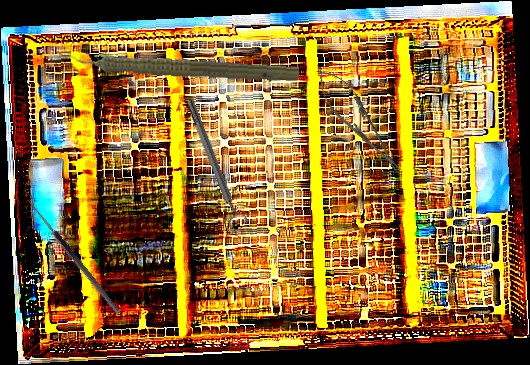Fixation Ring: (180, 96, 249, 230)
Handpiece: (62, 44, 300, 86)
Hook Surgical: (19, 197, 122, 319)
Needle Holder: (306, 60, 411, 181)
